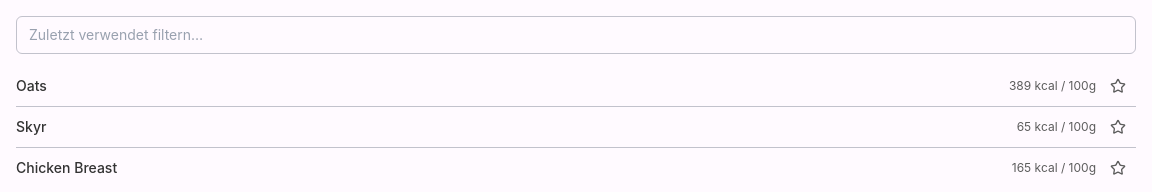
Test case: RecentPanel › filters fuzzily on search input
This screenshot has width=1152, height=192.
Expected: the text "Oats" is shown, x1=16 y1=77 x2=47 y2=94
Type "oat" into the search field at (576, 35), box x1=16 y1=16 x2=1136 y2=54
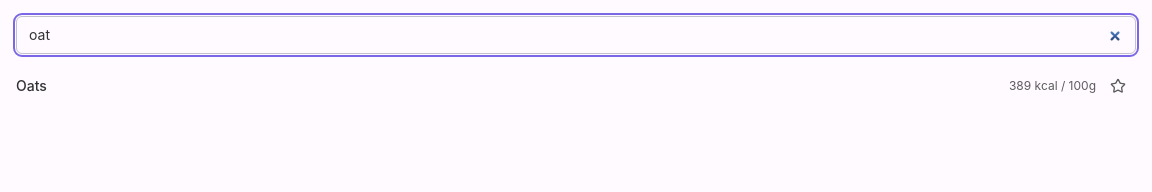
Expected: the text "Oats" is shown, x1=16 y1=77 x2=47 y2=94
Now the button "Skyr" is gone
Now the button "Chicken Breast" is gone
